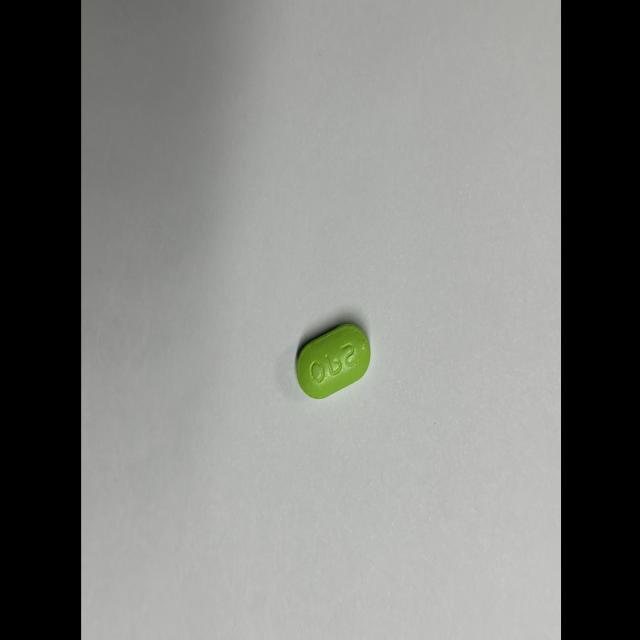Piller: (296, 325, 369, 398)
